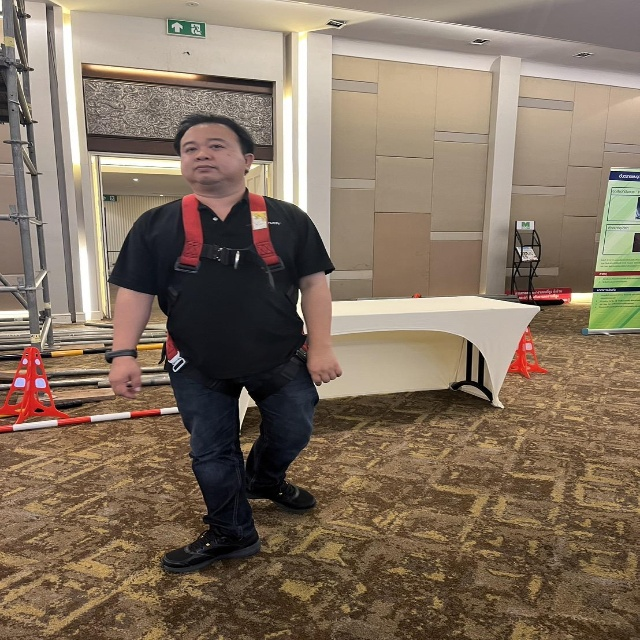Arnes_seguridad: (149, 187, 318, 382)
